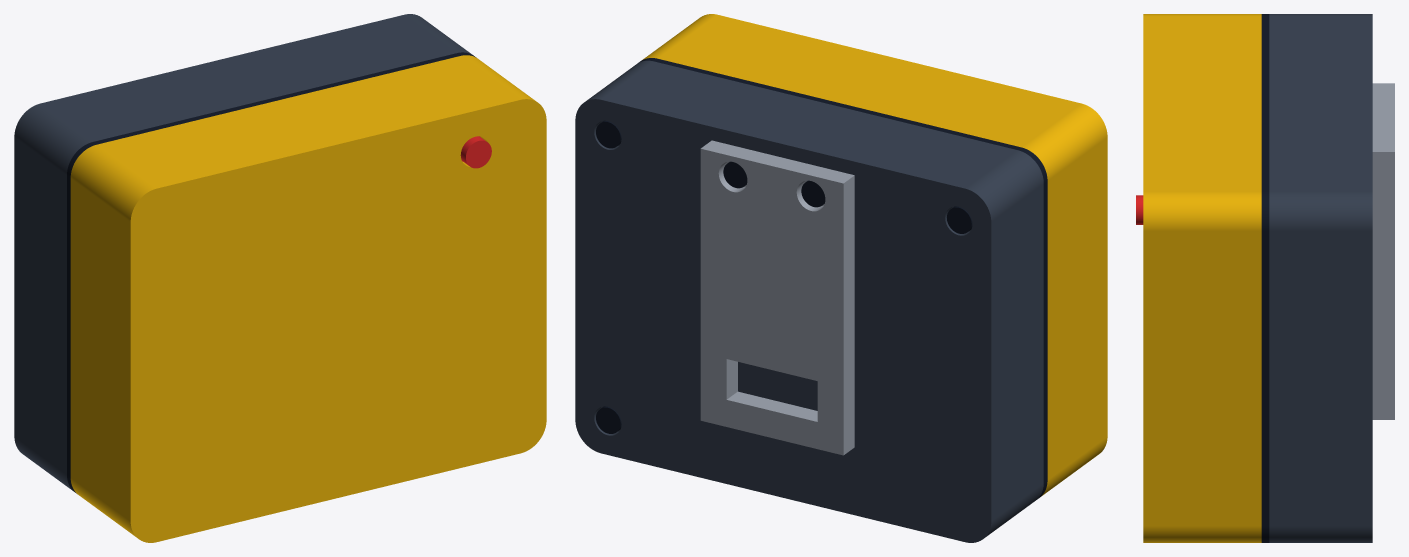
3 renders of one model, left to right at view 1: azimuth 30°, elevation 25°; view 2: azimuth 150°, elevation 25°; view 3: azimuth 270°, elevation 25°, orthographic.
Visible parts, largest first — view 1: Front shell with bottom inlet, Rear shell, TPU gasket and port seals (×2), Alert LED and light pipe; view 2: Rear shell, TPU gasket and port seals (×2), Front shell with bottom inlet, Spring clip and strap loop, M2 screws (3 shell, 2 clip) (×2); view 3: Front shell with bottom inlet, Rear shell, TPU gasket and port seals (×2), Spring clip and strap loop.
Part boxes in pixels (<box>): Front shell with bottom inlet: <box>70,55,546,542</box>; Rear shell, TPU gasket and port seals (×2): <box>14,14,476,493</box>; Alert LED and light pipe: <box>460,136,491,168</box>; Rear shell, TPU gasket and port seals (×2): <box>575,58,1047,542</box>; Front shell with bottom inlet: <box>642,14,1107,495</box>; Spring clip and strap loop: <box>700,140,854,455</box>; M2 screws (3 shell, 2 clip) (×2): <box>596,120,972,433</box>; Front shell with bottom inlet: <box>1143,14,1261,542</box>; Rear shell, TPU gasket and port seals (×2): <box>1261,14,1372,542</box>; Spring clip and strap loop: <box>1372,83,1394,419</box>.
Bounding box in the file's own units: 0.064 × 0.052 × 0.035.
